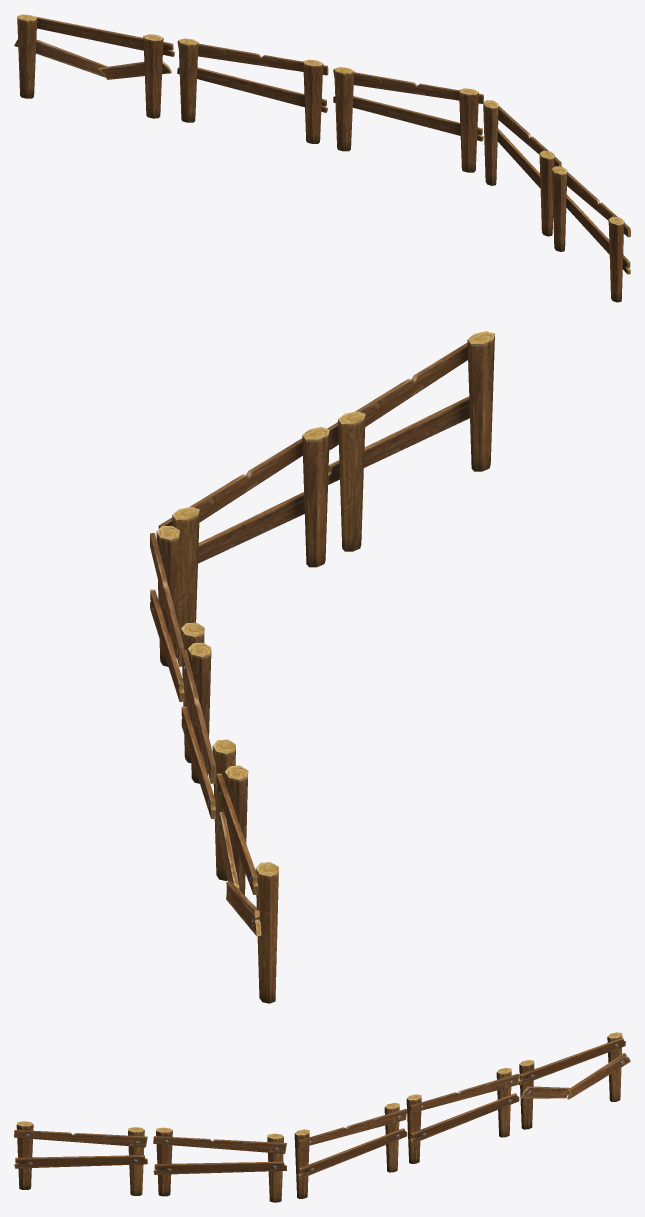
The model's file is Area_13_65.fbx.
3 views of the same model, one above another, from view 1: azimuth 30°, elevation 25°; view 2: azimuth 150°, elevation 25°; view 3: azimuth 270°, elevation 25° (orthographic). The views are drawn at different scales.
Parts seen in each view (by area): view 1: Area_13_65; view 2: Area_13_65; view 3: Area_13_65.
Part boxes in pixels (bbox=[...]): Area_13_65: bbox=[14, 14, 630, 302]; Area_13_65: bbox=[150, 331, 494, 1003]; Area_13_65: bbox=[14, 1032, 630, 1202].
Size of the model in its own units: 506 by 147 by 1201.
